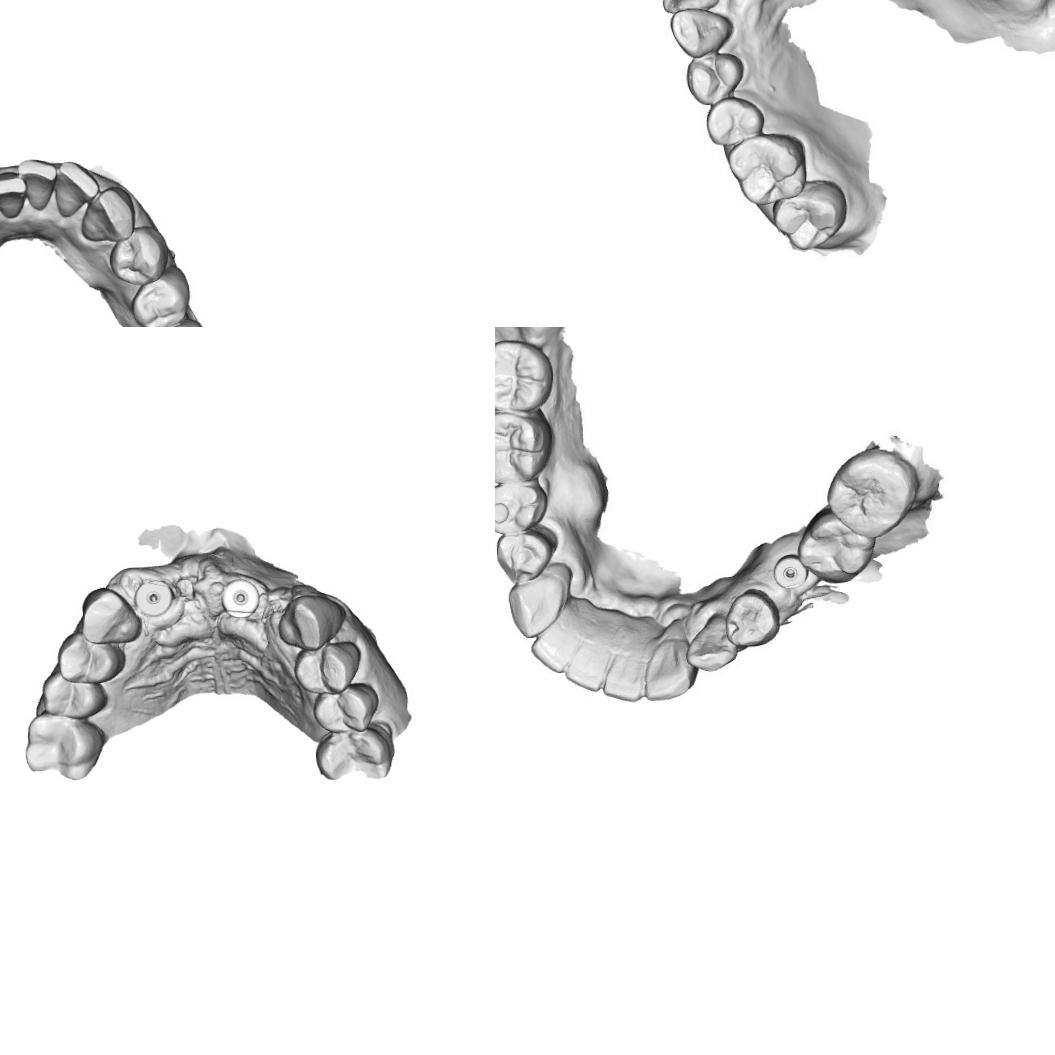canine: (502, 564, 575, 639), (276, 592, 347, 652), (78, 584, 143, 646), (668, 6, 736, 59), (80, 184, 135, 246), (686, 614, 738, 673)
implant: (219, 576, 262, 620), (769, 552, 812, 596), (133, 579, 176, 618)
incisor: (636, 632, 695, 704), (600, 632, 650, 705), (561, 632, 608, 691), (531, 620, 582, 674), (14, 156, 60, 215), (56, 162, 100, 218), (0, 170, 27, 219), (661, 0, 724, 16)
molar: (822, 446, 923, 538), (795, 505, 874, 590), (723, 131, 809, 208), (23, 706, 106, 783), (770, 176, 848, 254), (495, 408, 559, 489), (313, 720, 396, 780), (495, 338, 559, 415)
premolar: (55, 629, 128, 685), (291, 640, 362, 696), (723, 586, 781, 652), (311, 681, 381, 734), (495, 524, 560, 581), (40, 667, 108, 720), (682, 50, 748, 104), (704, 95, 766, 152), (112, 232, 166, 288), (495, 480, 545, 537), (135, 276, 182, 327)
